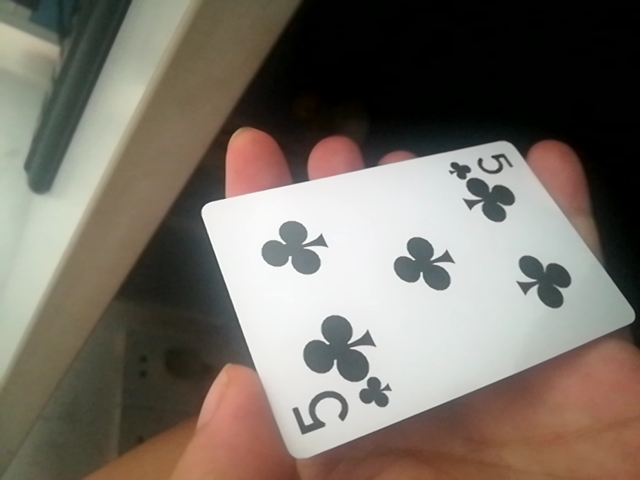mh 5: (188, 134, 639, 463)
